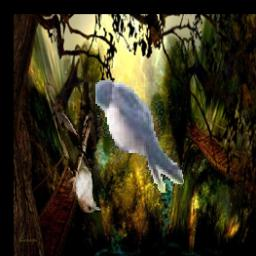Cuckoo: (45, 82, 102, 213)
Swallow: (96, 81, 185, 194)
